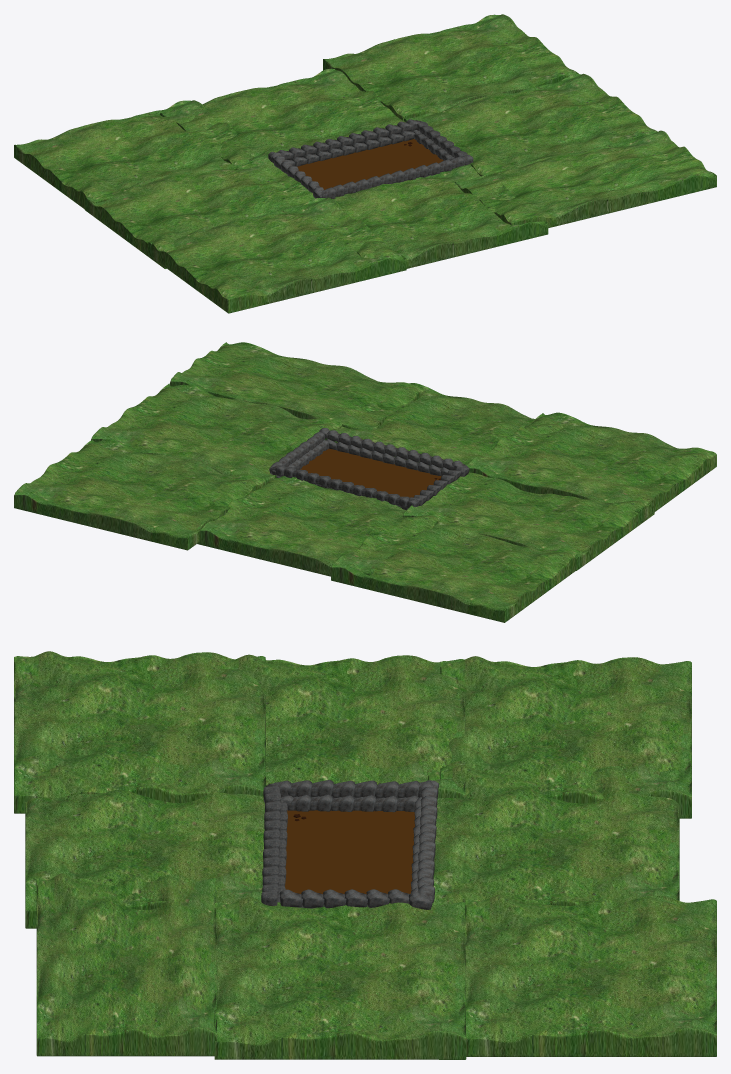
File: ArenaNovayaBNV777-compressed.glb
3 views of the same model, one above another, from view 1: azimuth 30°, elevation 25°; view 2: azimuth 150°, elevation 25°; view 3: azimuth 270°, elevation 25° (orthographic). The views are drawn at different scales.
Visible parts, largest first — view 1: 10450_Rectangular_Grass_Patch_v1_iterations-2007, 10450_Rectangular_Grass_Patch_v1_iterations-2003, 10450_Rectangular_Grass_Patch_v1_iterations-2002, 10450_Rectangular_Grass_Patch_v1_iterations-2001, 10450_Rectangular_Grass_Patch_v1_iterations-2006, 10450_Rectangular_Grass_Patch_v1_iterations-2, 10450_Rectangular_Grass_Patch_v1_iterations-2005, 10450_Rectangular_Grass_Patch_v1_iterations-2004, Cube; view 2: 10450_Rectangular_Grass_Patch_v1_iterations-2003, 10450_Rectangular_Grass_Patch_v1_iterations-2006, 10450_Rectangular_Grass_Patch_v1_iterations-2007, 10450_Rectangular_Grass_Patch_v1_iterations-2004, 10450_Rectangular_Grass_Patch_v1_iterations-2001, 10450_Rectangular_Grass_Patch_v1_iterations-2002, 10450_Rectangular_Grass_Patch_v1_iterations-2005, 10450_Rectangular_Grass_Patch_v1_iterations-2, Cube; view 3: 10450_Rectangular_Grass_Patch_v1_iterations-2003, 10450_Rectangular_Grass_Patch_v1_iterations-2001, 10450_Rectangular_Grass_Patch_v1_iterations-2007, 10450_Rectangular_Grass_Patch_v1_iterations-2002, 10450_Rectangular_Grass_Patch_v1_iterations-2006, 10450_Rectangular_Grass_Patch_v1_iterations-2004, 10450_Rectangular_Grass_Patch_v1_iterations-2005, 10450_Rectangular_Grass_Patch_v1_iterations-2, Cube.
Boxes of the visible parts, box(x1,y1,x2,y2) form: 10450_Rectangular_Grass_Patch_v1_iterations-2007: box(148, 197, 406, 313); 10450_Rectangular_Grass_Patch_v1_iterations-2003: box(323, 14, 579, 120); 10450_Rectangular_Grass_Patch_v1_iterations-2002: box(454, 130, 716, 227); 10450_Rectangular_Grass_Patch_v1_iterations-2001: box(404, 73, 657, 176); 10450_Rectangular_Grass_Patch_v1_iterations-2006: box(14, 100, 253, 208); 10450_Rectangular_Grass_Patch_v1_iterations-2: box(292, 162, 548, 268); 10450_Rectangular_Grass_Patch_v1_iterations-2005: box(84, 152, 314, 268); 10450_Rectangular_Grass_Patch_v1_iterations-2004: box(160, 68, 405, 169); Cube: box(297, 139, 443, 189); 10450_Rectangular_Grass_Patch_v1_iterations-2003: box(14, 439, 265, 550); 10450_Rectangular_Grass_Patch_v1_iterations-2006: box(331, 512, 582, 622); 10450_Rectangular_Grass_Patch_v1_iterations-2007: box(467, 412, 716, 523); 10450_Rectangular_Grass_Patch_v1_iterations-2004: box(197, 476, 445, 576); 10450_Rectangular_Grass_Patch_v1_iterations-2001: box(91, 383, 342, 482); 10450_Rectangular_Grass_Patch_v1_iterations-2002: box(170, 342, 426, 430); 10450_Rectangular_Grass_Patch_v1_iterations-2005: box(402, 472, 654, 570); 10450_Rectangular_Grass_Patch_v1_iterations-2: box(325, 383, 563, 480); Cube: box(300, 448, 441, 497); 10450_Rectangular_Grass_Patch_v1_iterations-2003: box(465, 894, 716, 1056); 10450_Rectangular_Grass_Patch_v1_iterations-2001: box(214, 897, 466, 1059); 10450_Rectangular_Grass_Patch_v1_iterations-2007: box(14, 651, 265, 813); 10450_Rectangular_Grass_Patch_v1_iterations-2002: box(36, 873, 217, 1056); 10450_Rectangular_Grass_Patch_v1_iterations-2006: box(440, 656, 691, 818); 10450_Rectangular_Grass_Patch_v1_iterations-2004: box(427, 765, 679, 905); 10450_Rectangular_Grass_Patch_v1_iterations-2005: box(218, 654, 465, 798); 10450_Rectangular_Grass_Patch_v1_iterations-2: box(25, 766, 274, 928); Cube: box(285, 810, 414, 893).
Size of the model in its own units: 99.85 by 4.48 by 77.81.
Materials: 4 (2 with a texture image).
